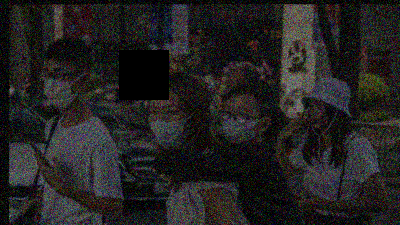with_mask: (149, 102, 196, 149), (220, 102, 262, 143), (42, 66, 81, 108)
without_mask: (307, 99, 327, 130)
